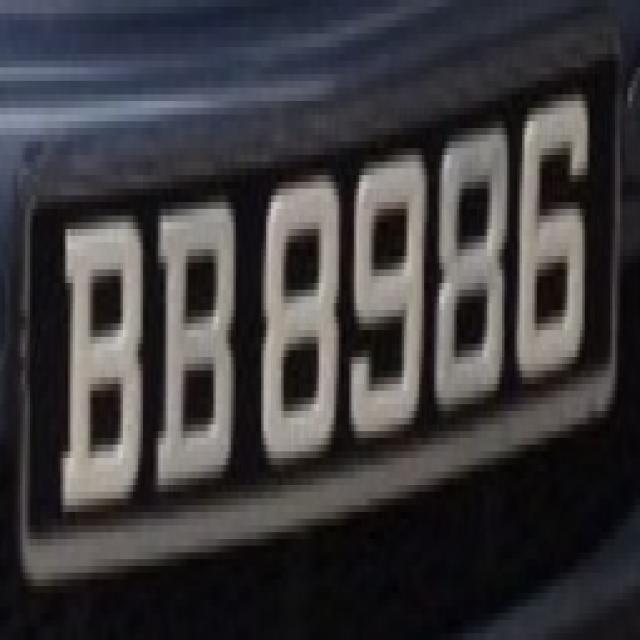licenseplate: (7, 0, 630, 627)
